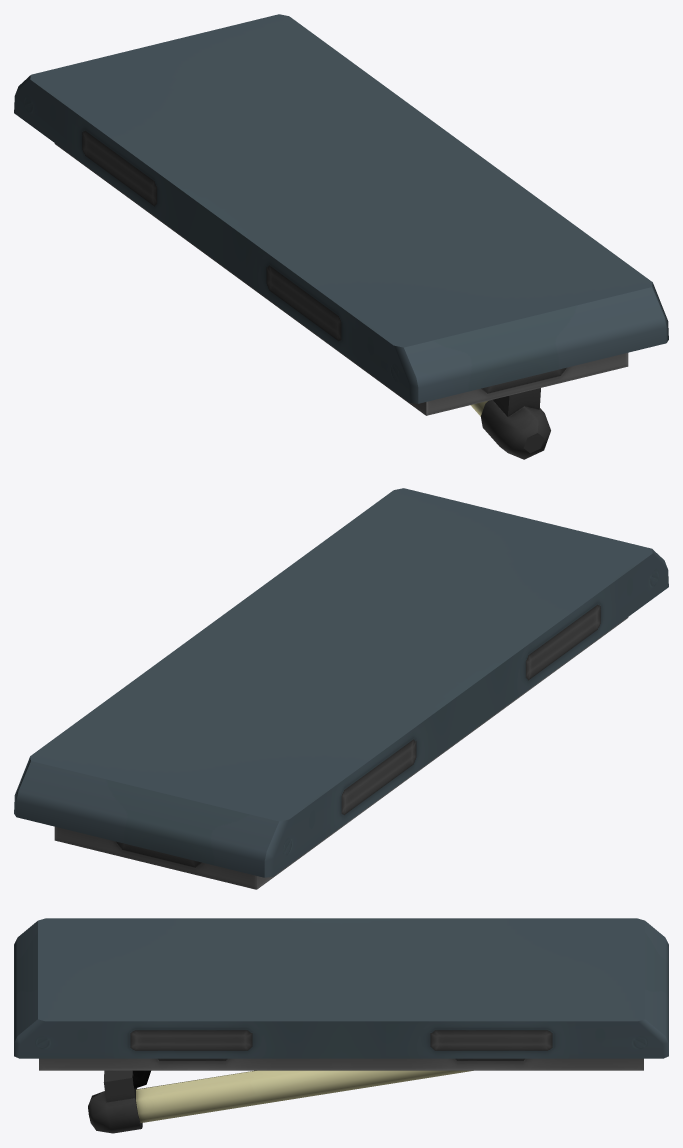
File: env_building_fluorescentlamp_broken.fbx
3 views of the same model, one above another, from view 1: azimuth 30°, elevation 25°; view 2: azimuth 150°, elevation 25°; view 3: azimuth 270°, elevation 25° (orthographic). The views are drawn at different scales.
Parts seen in each view (by area): view 1: env_warehouse_fluorescentlamp_borken_lod0; view 2: env_warehouse_fluorescentlamp_borken_lod0; view 3: env_warehouse_fluorescentlamp_borken_lod0.
Part boxes in pixels (<box>): env_warehouse_fluorescentlamp_borken_lod0: <box>14,14,668,459</box>; env_warehouse_fluorescentlamp_borken_lod0: <box>14,488,668,889</box>; env_warehouse_fluorescentlamp_borken_lod0: <box>14,918,668,1133</box>.
Bounding box in the file's own units: 8.93 × 5.91 × 24.
Materials: 1 (1 with a texture image).
